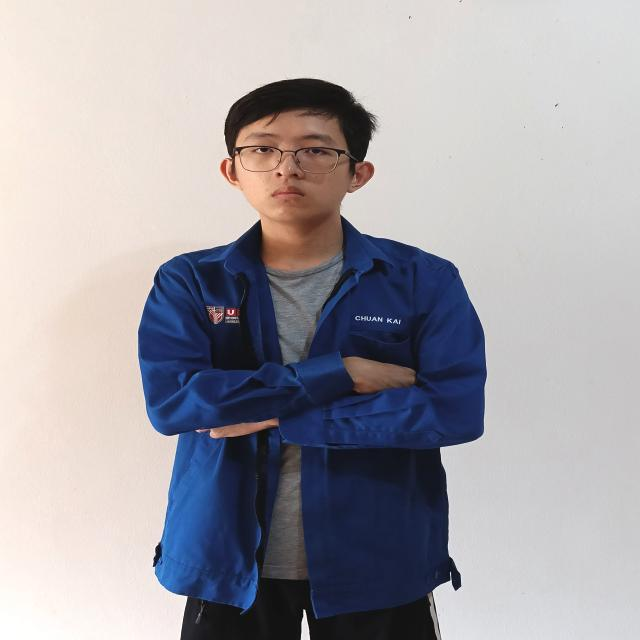person_with_labcoat: (139, 79, 486, 640)
